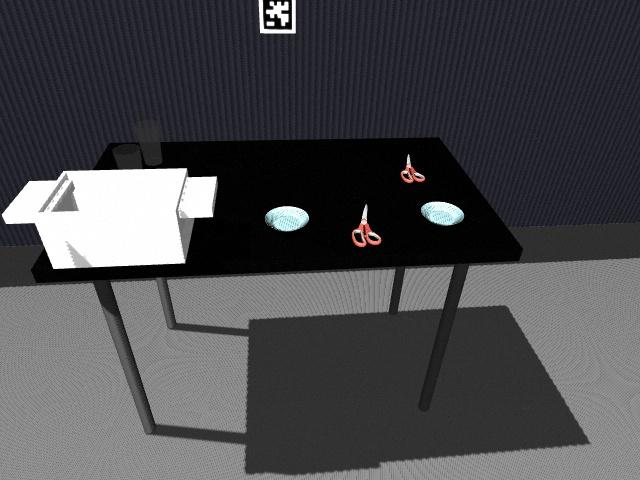cup: (133, 120, 162, 167), (112, 145, 141, 171)
plate: (263, 205, 310, 233), (420, 201, 465, 226)
scissors: (350, 202, 381, 248), (400, 153, 427, 185)
